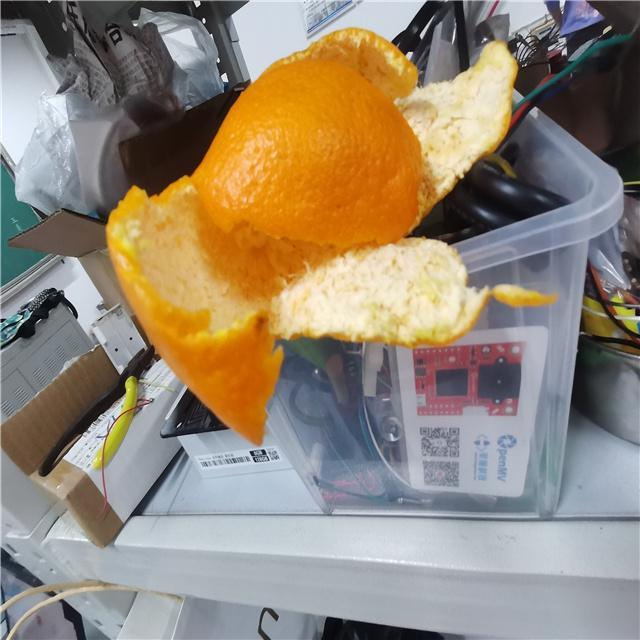orange-peel: (104, 28, 519, 449)
